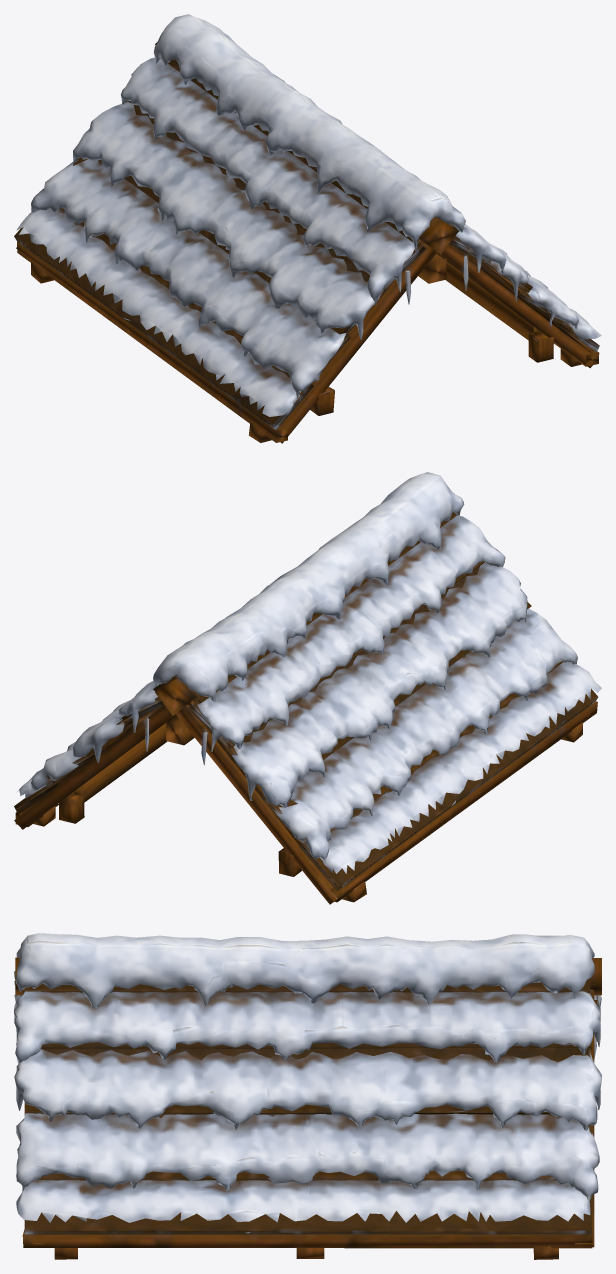
File: HK_roof_section.glb
The picture shows the model from 3 angles, top to bottom: view 1: azimuth 30°, elevation 25°; view 2: azimuth 150°, elevation 25°; view 3: azimuth 270°, elevation 25°; orthographic projection. The views are drawn at different scales.
Visible parts, largest first — view 1: geometry_0; view 2: geometry_0; view 3: geometry_0.
Boxes of the visible parts, x1,y1,x2,y2 form: geometry_0: [14, 14, 601, 443]; geometry_0: [14, 472, 601, 904]; geometry_0: [14, 933, 601, 1259].
Bounding box in the file's own units: 0.6938 × 0.4214 × 0.9512.
Materials: 1 (1 with a texture image).
